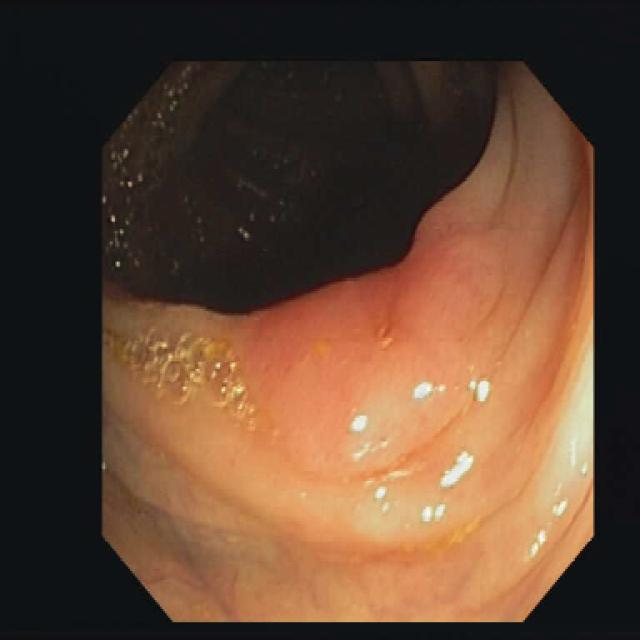tumor: (257, 231, 477, 356)
